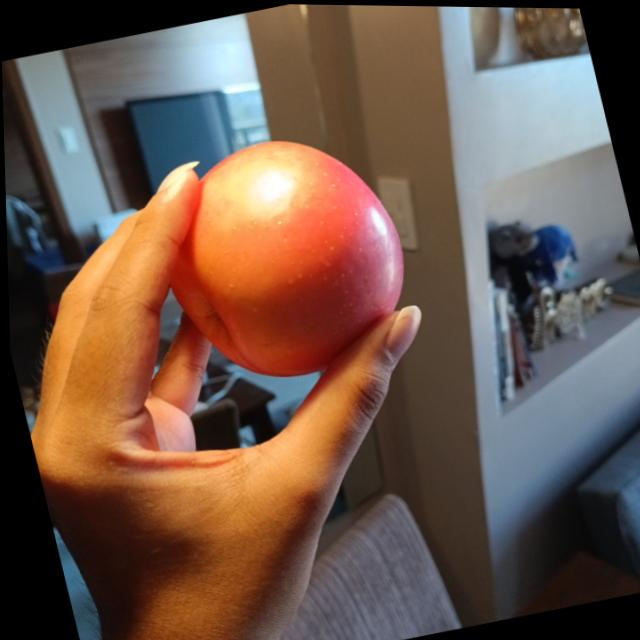apple: (139, 116, 425, 397)
